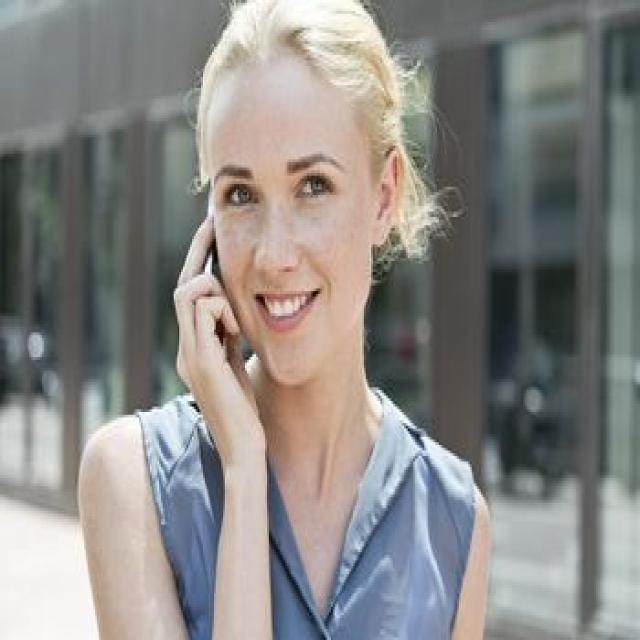phone: (168, 146, 269, 420)
